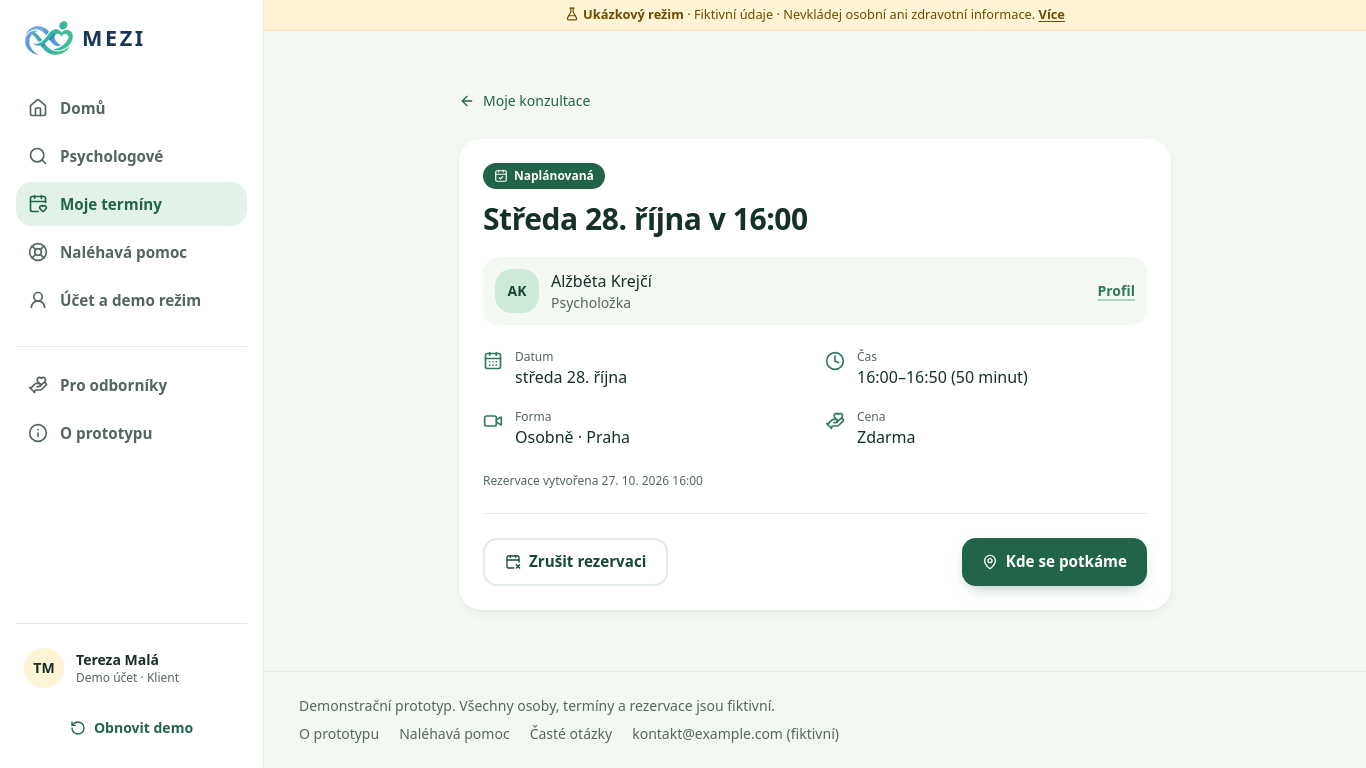
Test case: průchody aplikací › klient zruší budoucí rezervaci a termín se znovu nabízí
Click the button "Zrušit rezervaci" at (576, 562), box [483,538,668,586]
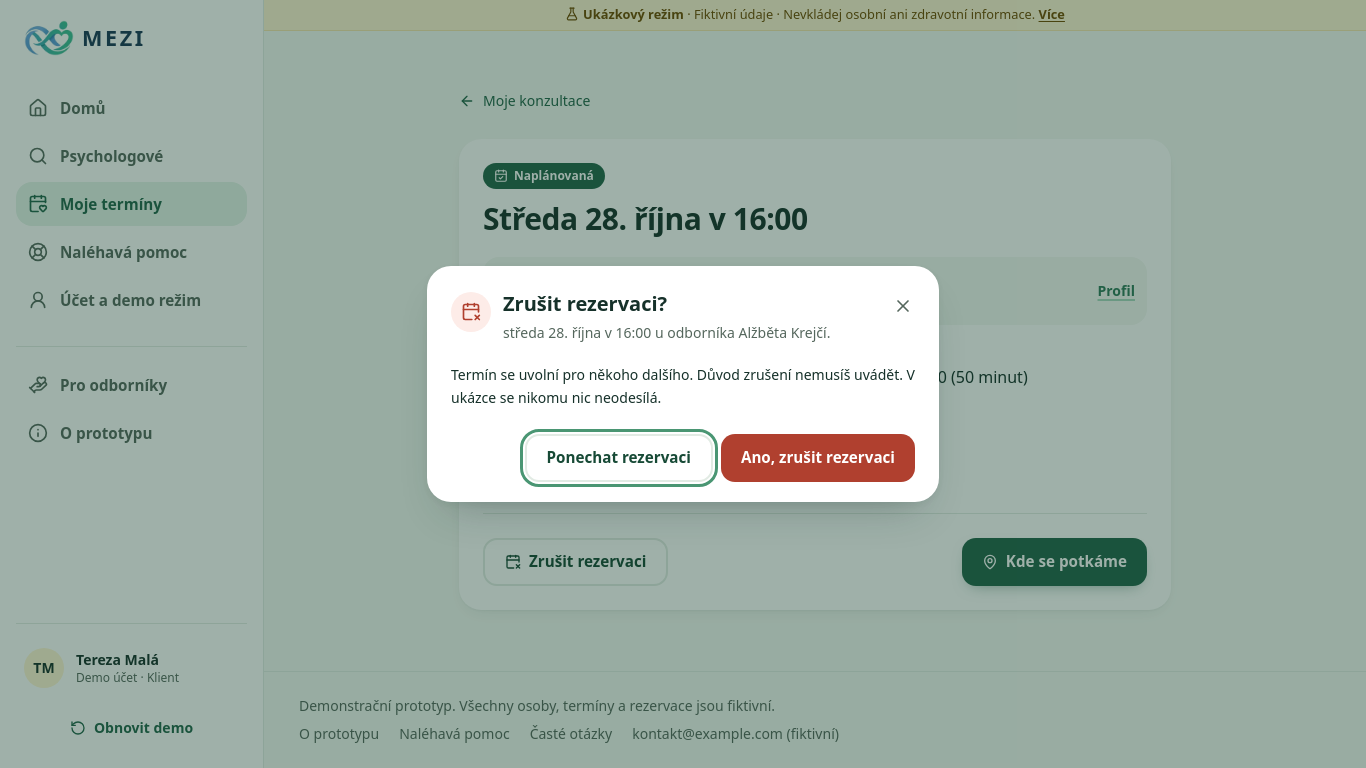
Click the button "Ano, zrušit rezervaci" at (818, 458), box [721,434,915,482]
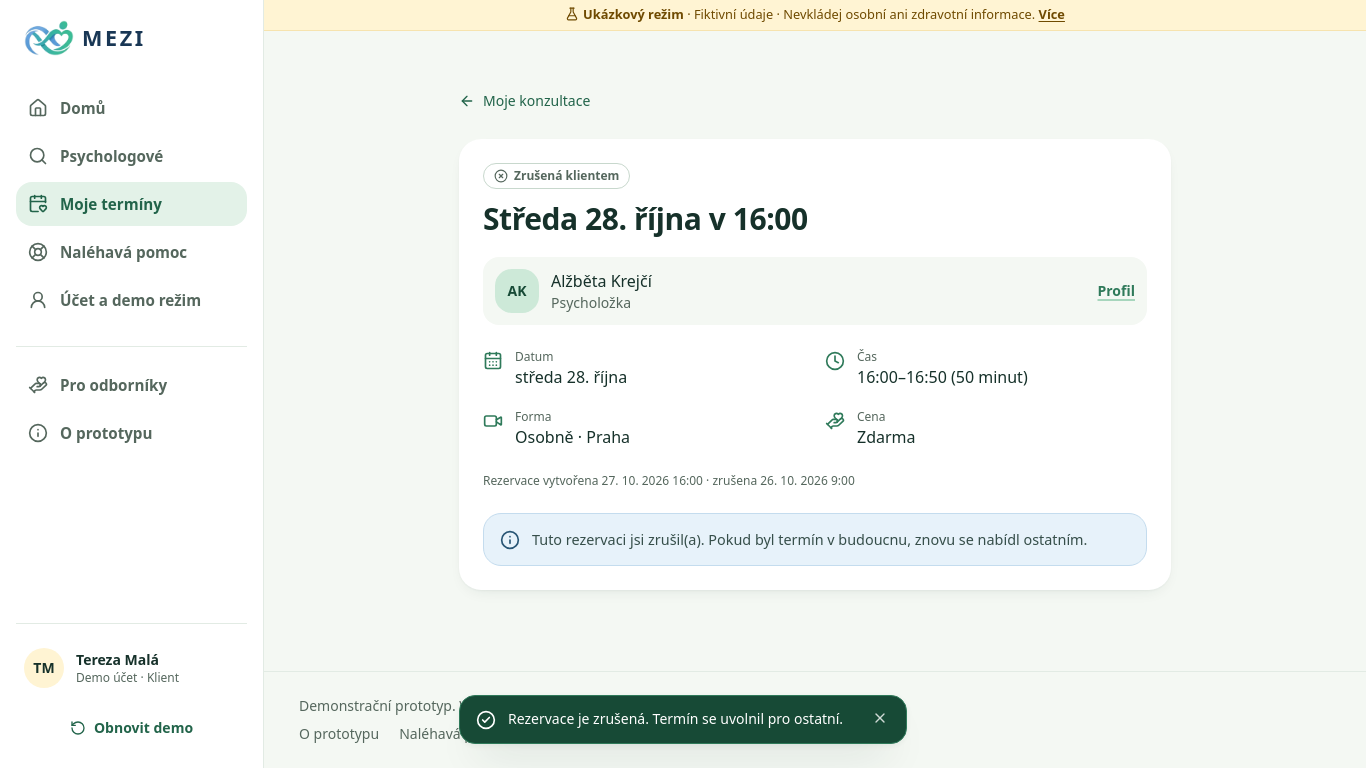
expect the text "Tuto rezervaci jsi zrušil" is shown: met, box [532,530,1087,549]
